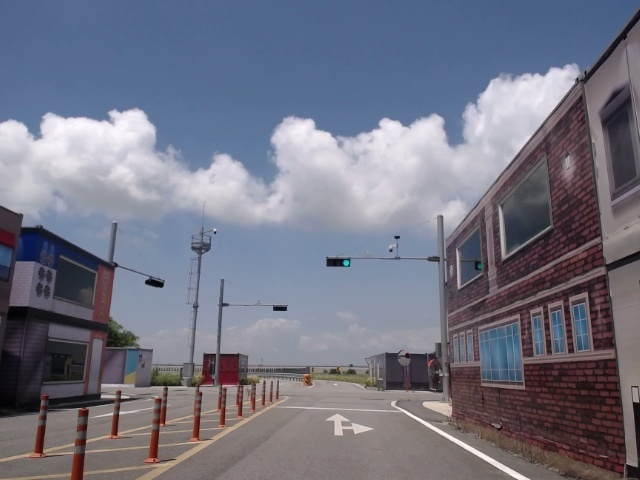green_3: (327, 258, 350, 267)
